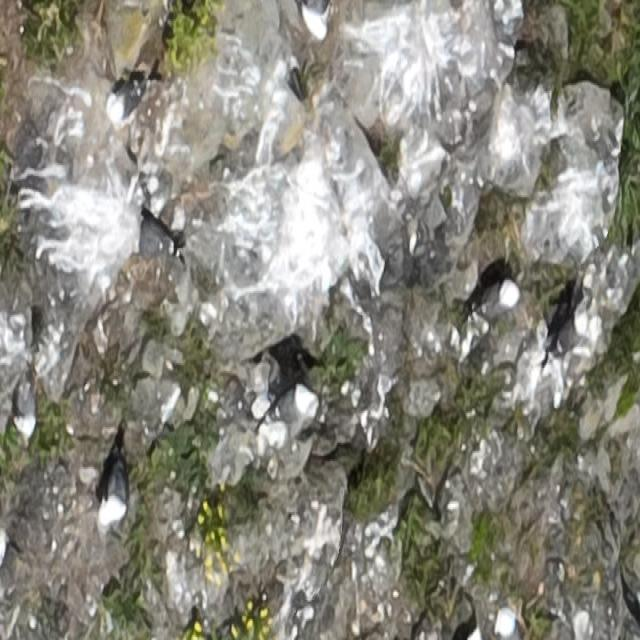umineko: (261, 380, 314, 431), (476, 272, 520, 324), (548, 310, 588, 364), (99, 453, 128, 524), (107, 70, 148, 120), (16, 380, 40, 437), (302, 2, 329, 43)
